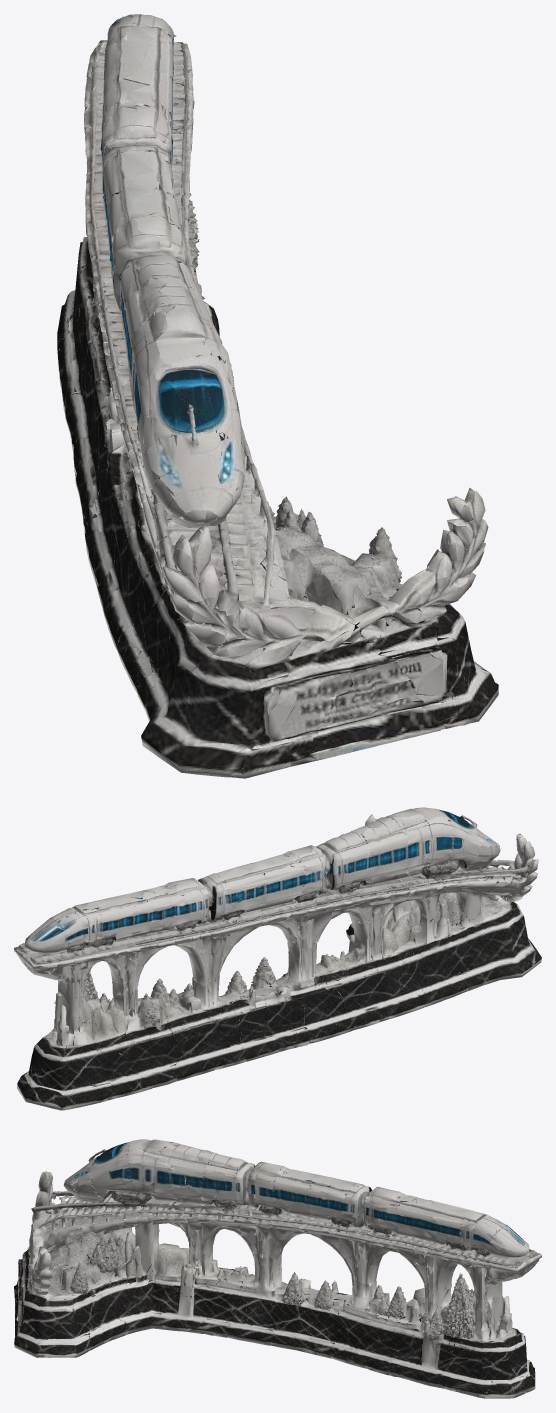
File: award-maria.glb
The picture shows the model from 3 angles, top to bottom: view 1: azimuth 30°, elevation 25°; view 2: azimuth 150°, elevation 25°; view 3: azimuth 270°, elevation 25°; orthographic projection. The views are drawn at different scales.
Parts seen in each view (by area): view 1: Mesh_0; view 2: Mesh_0; view 3: Mesh_0.
Part boxes in pixels (bbox=[...]): Mesh_0: bbox=[57, 14, 498, 778]; Mesh_0: bbox=[14, 807, 541, 1110]; Mesh_0: bbox=[14, 1139, 541, 1398].
Size of the model in its own units: 1.02 by 0.669 by 1.9.
1 material, 1 textured.
